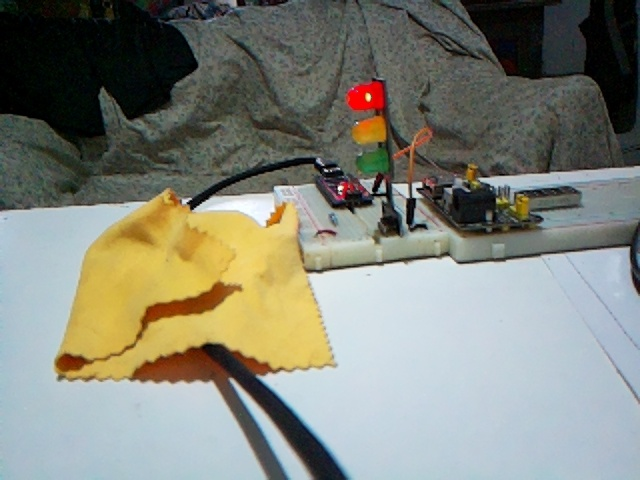traffic_light_red: (347, 79, 394, 180)
